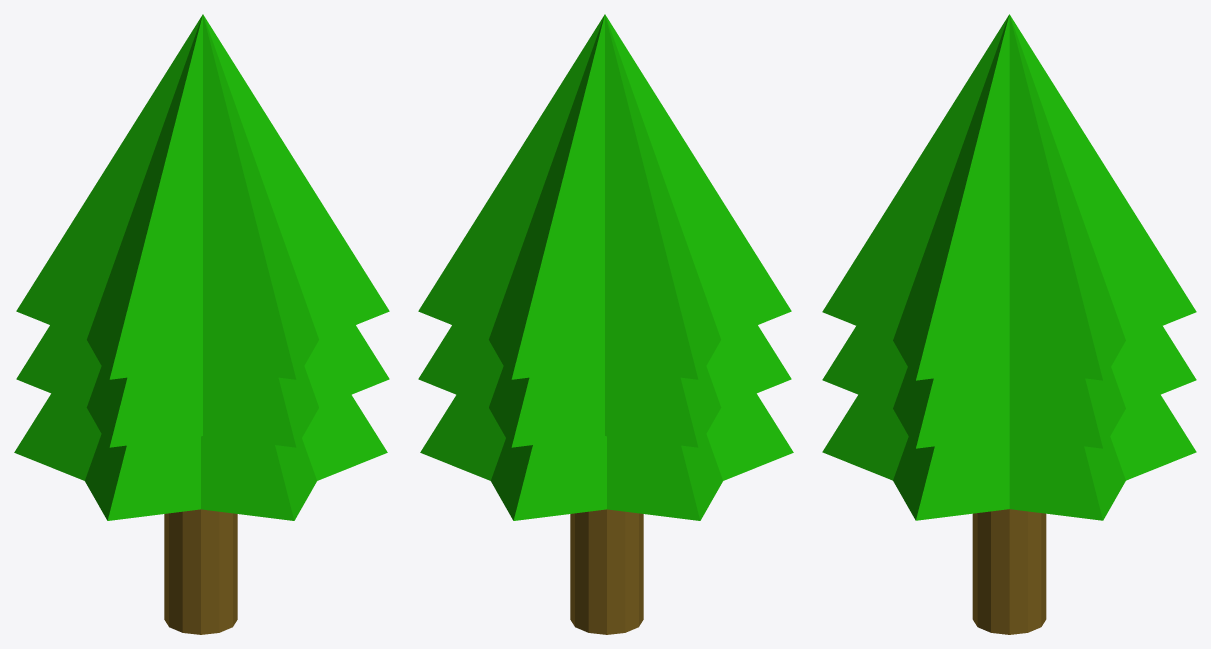
Rendered from Tree.fbx.
3 views of the same model, side by side, from view 1: azimuth 30°, elevation 25°; view 2: azimuth 150°, elevation 25°; view 3: azimuth 270°, elevation 25° (orthographic).
Parts seen in each view (by area): view 1: Leaves03, Leaves01, Leaves02, Trunk; view 2: Leaves03, Leaves01, Leaves02, Trunk; view 3: Leaves03, Leaves01, Leaves02, Trunk.
Boxes of the visible parts, x1,y1,x2,y2 form: Leaves03: (16,14,389,379); Leaves01: (14,393,387,520); Leaves02: (16,325,389,447); Trunk: (164,509,237,634); Leaves03: (418,14,791,379); Leaves01: (420,393,793,520); Leaves02: (418,325,791,447); Trunk: (570,509,643,634); Leaves03: (822,14,1196,380); Leaves01: (822,395,1196,520); Leaves02: (822,326,1196,448); Trunk: (972,509,1046,634).
Bounding box in the file's own units: 2.21 × 4.53 × 2.54.
